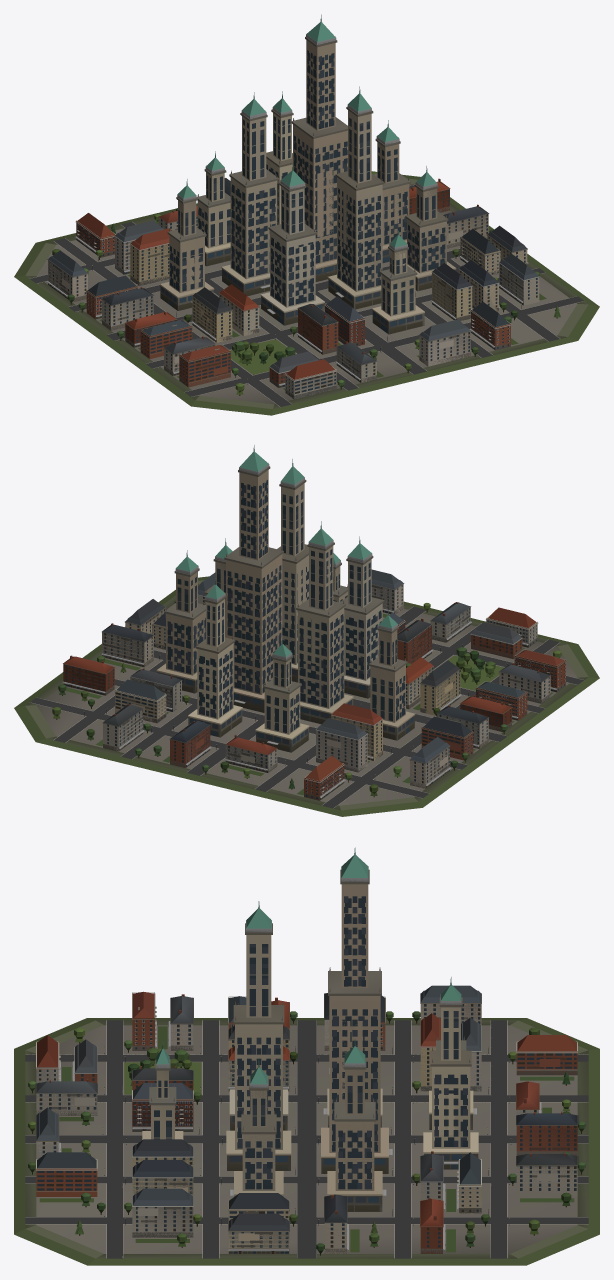
Rendered from city_ww1_metropolis.glb.
3 renders of one model, top to bottom at view 1: azimuth 30°, elevation 25°; view 2: azimuth 150°, elevation 25°; view 3: azimuth 270°, elevation 25°, orthographic. The views are drawn at different scales.
Visible parts, largest first — view 1: city_ww1_metropolis_LOD0_mesh, city_ww1_metropolis_LOD2_mesh, city_ww1_metropolis_LOD1_mesh; view 2: city_ww1_metropolis_LOD0_mesh, city_ww1_metropolis_LOD2_mesh, city_ww1_metropolis_LOD1_mesh; view 3: city_ww1_metropolis_LOD0_mesh, city_ww1_metropolis_LOD2_mesh, city_ww1_metropolis_LOD1_mesh.
Part boxes in pixels (x1,y1,x2,y2): city_ww1_metropolis_LOD0_mesh: (14, 19, 599, 415); city_ww1_metropolis_LOD2_mesh: (17, 22, 596, 413); city_ww1_metropolis_LOD1_mesh: (47, 15, 557, 399); city_ww1_metropolis_LOD0_mesh: (14, 445, 599, 816); city_ww1_metropolis_LOD2_mesh: (17, 451, 596, 814); city_ww1_metropolis_LOD1_mesh: (52, 463, 565, 800); city_ww1_metropolis_LOD0_mesh: (14, 848, 599, 1265); city_ww1_metropolis_LOD2_mesh: (17, 855, 596, 1263); city_ww1_metropolis_LOD1_mesh: (29, 848, 584, 1253).
Bounding box in the file's own units: 366 × 218 × 366.
